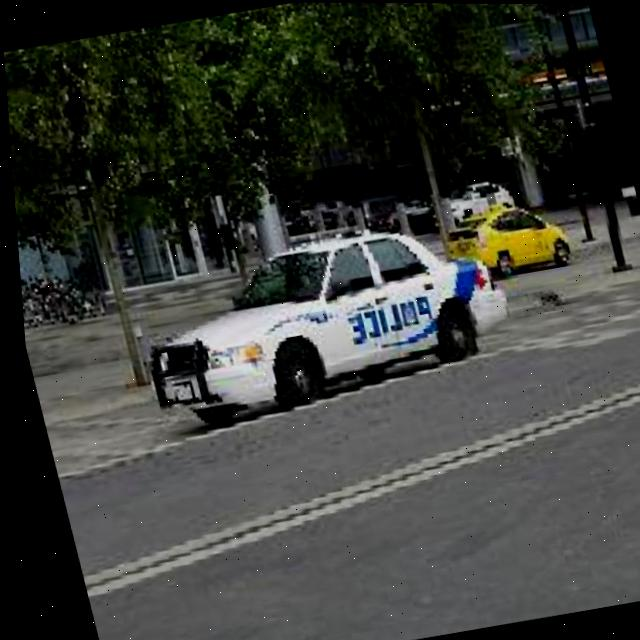emergency: (113, 202, 525, 438)
